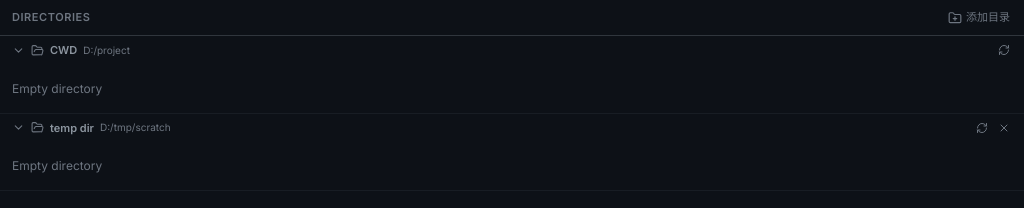
EditorDirectoryRoots › collapses each root independently
This screenshot has width=1024, height=208.
Expected: the text "Empty directory" is shown 2 times, [12,80,102,96]; [12,158,102,173]
Click the element with test id "editor-root-header" showing "CWD D:/project" at (107, 50), box [12,42,1012,58]
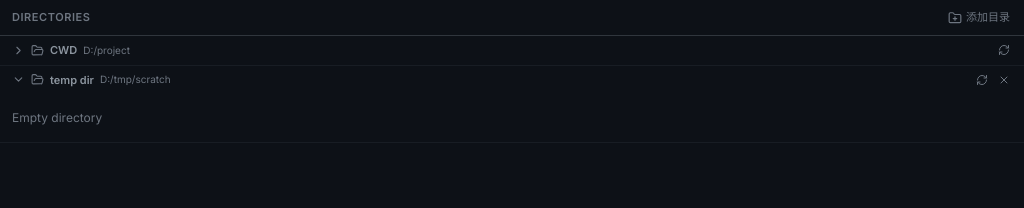
Expected: the text "Empty directory" is shown once, [12,110,102,125]
